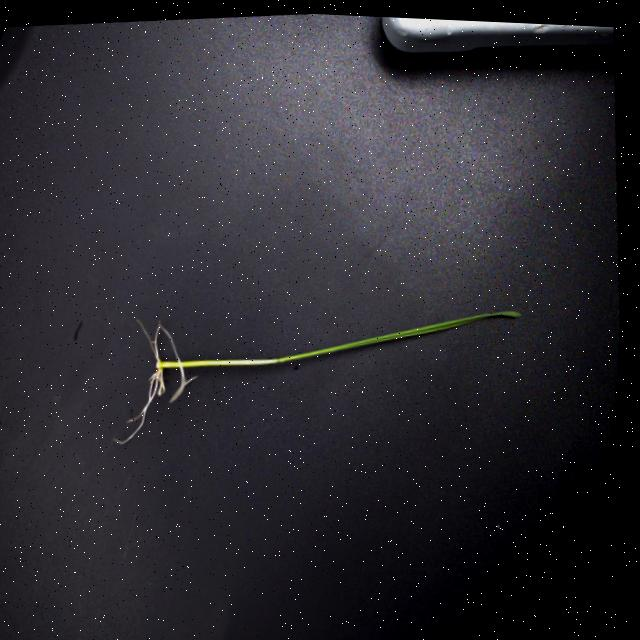leaf: (277, 309, 523, 366)
root: (112, 319, 198, 446)
steb: (158, 356, 278, 369)
